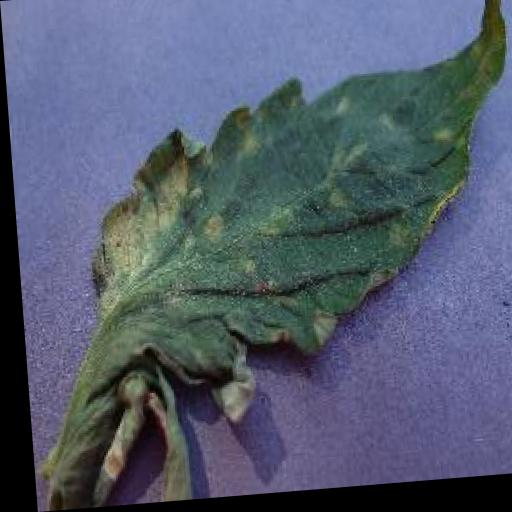Leaf Mold: (70, 0, 512, 434)
